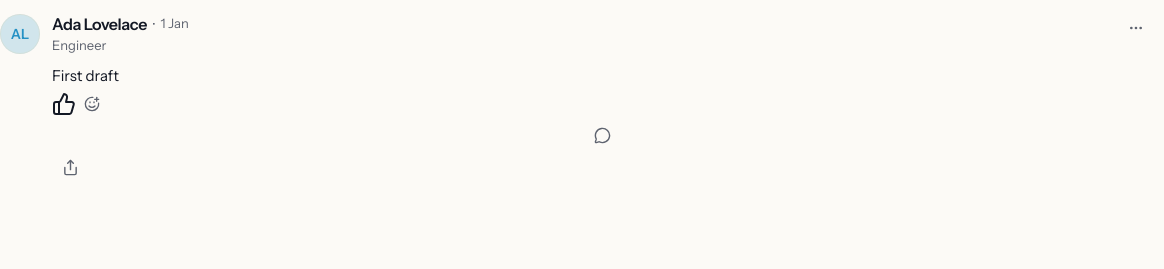
PostCard › lets the author edit a TEXT post in place, then marks it edited
The width and height of the screenshot is (1164, 269).
Step 1. Click the button named "post options" → point(1136, 28), box [1120,12,1152,44]
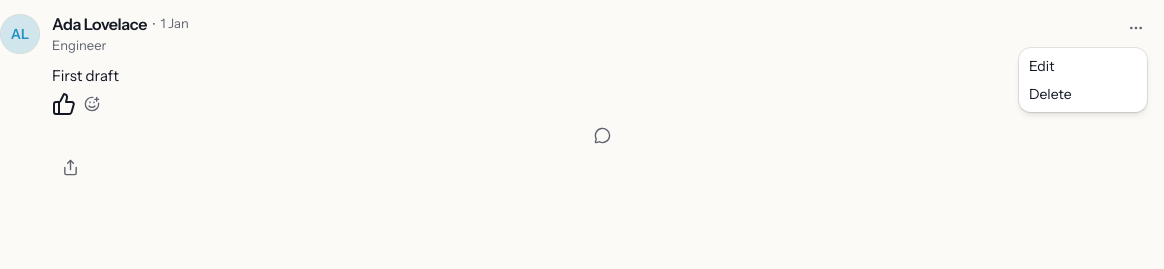
Step 2. Click the menu item "Edit" → point(1042, 66), box [1029,57,1054,75]
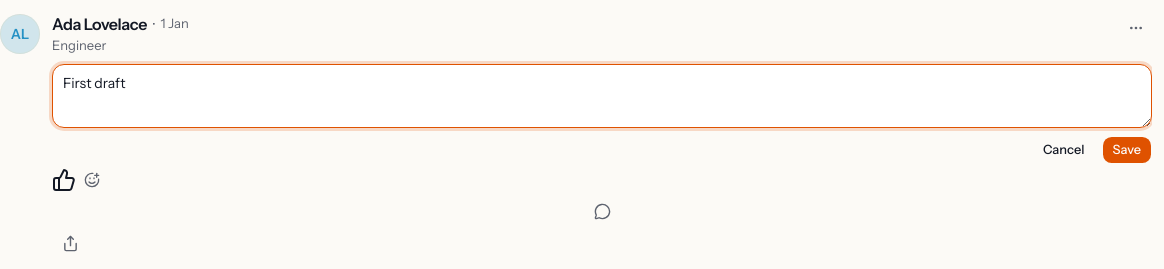
expect the text box named "Edit post" holds "First draft": met
Step 3. Replace the text in the text box named "Edit post" with "  Second draft  " → point(602, 96), box [52,64,1152,128]
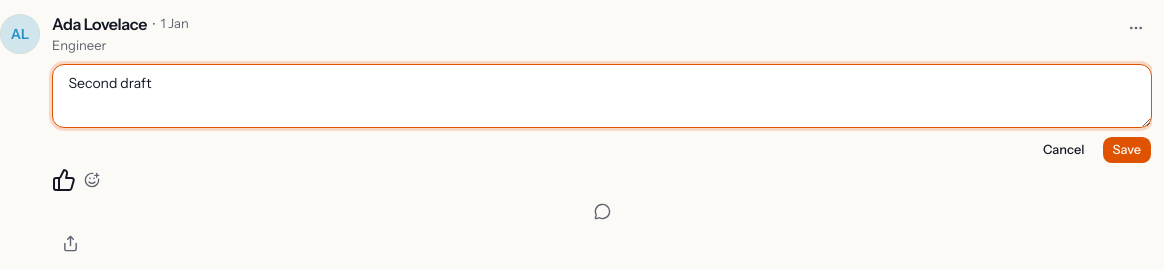
Step 4. Click the button "Save" → point(1127, 150), box [1102,136,1152,164]
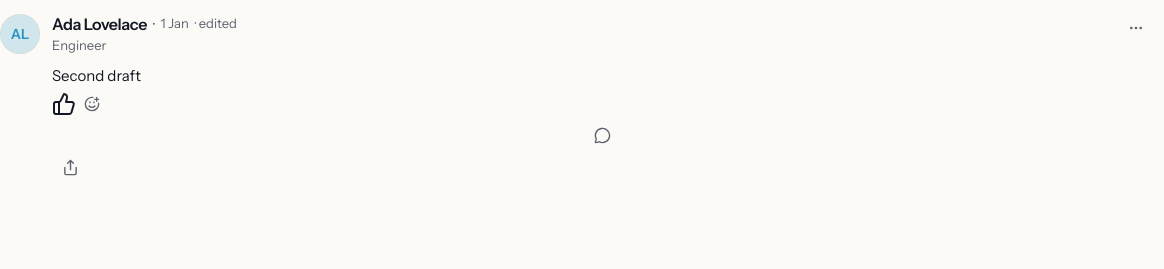
expect the text "Second draft" is shown: met, box [52,66,141,84]
expect the text "· edited" is shown: met, box [195,14,237,34]
